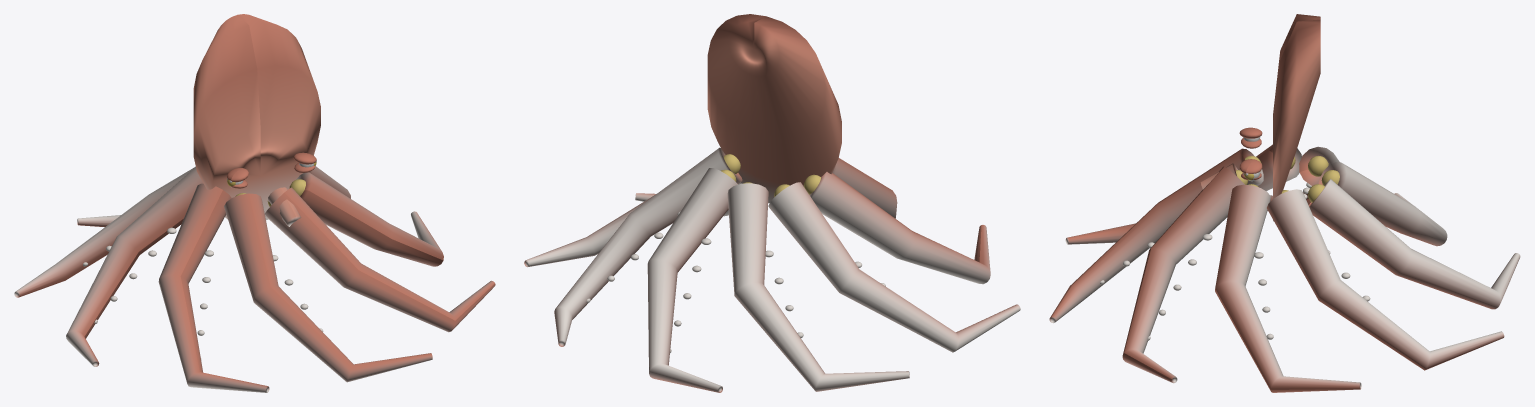
The model's file is octopus.glb.
The picture shows the model from 3 angles, left to right: view 1: azimuth 30°, elevation 25°; view 2: azimuth 150°, elevation 25°; view 3: azimuth 270°, elevation 25°; orthographic projection. The views are drawn at different scales.
Visible parts, largest first — view 1: MantleHead, Arm_8, Arm_7, Arm_1, Arm_6, Arm_2, Arm_5; view 2: MantleHead, Arm_6, Arm_5, Arm_4, Arm_7, Arm_3, Arm_2, Arm_8; view 3: Arm_3, Arm_2, Arm_4, Arm_1, MantleHead, Arm_8, Arm_5, Arm_7, Arm_6.
Part boxes in pixels (box(x1,y1,x2,y2)): MantleHead: box(193, 14, 320, 226); Arm_8: box(224, 193, 432, 382); Arm_7: box(158, 183, 269, 392); Arm_1: box(265, 187, 495, 332); Arm_6: box(66, 167, 203, 366); Arm_2: box(289, 172, 443, 266); Arm_5: box(14, 167, 194, 297); MantleHead: box(707, 14, 841, 202); Arm_6: box(768, 182, 1020, 352); Arm_5: box(727, 182, 909, 391); Arm_4: box(647, 168, 737, 392); Arm_7: box(803, 172, 990, 284); Arm_3: box(554, 147, 742, 346); Arm_2: box(524, 182, 741, 267); Arm_8: box(832, 158, 897, 218); Arm_3: box(1267, 189, 1504, 370); Arm_2: box(1215, 184, 1361, 392); Arm_4: box(1308, 179, 1520, 309); Arm_1: box(1122, 166, 1248, 383); MantleHead: box(1200, 14, 1320, 221); Arm_8: box(1049, 148, 1263, 323); Arm_5: box(1318, 162, 1447, 246); Arm_7: box(1065, 144, 1301, 244); Arm_6: box(1267, 146, 1339, 210).
Bounding box in the file's own units: 1.99 × 1.33 × 1.99.
